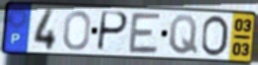4: (32, 7, 58, 52)
E: (127, 11, 163, 56)
O: (199, 14, 230, 58), (62, 9, 93, 52)
P: (95, 10, 130, 54)
Q: (168, 13, 199, 56)
